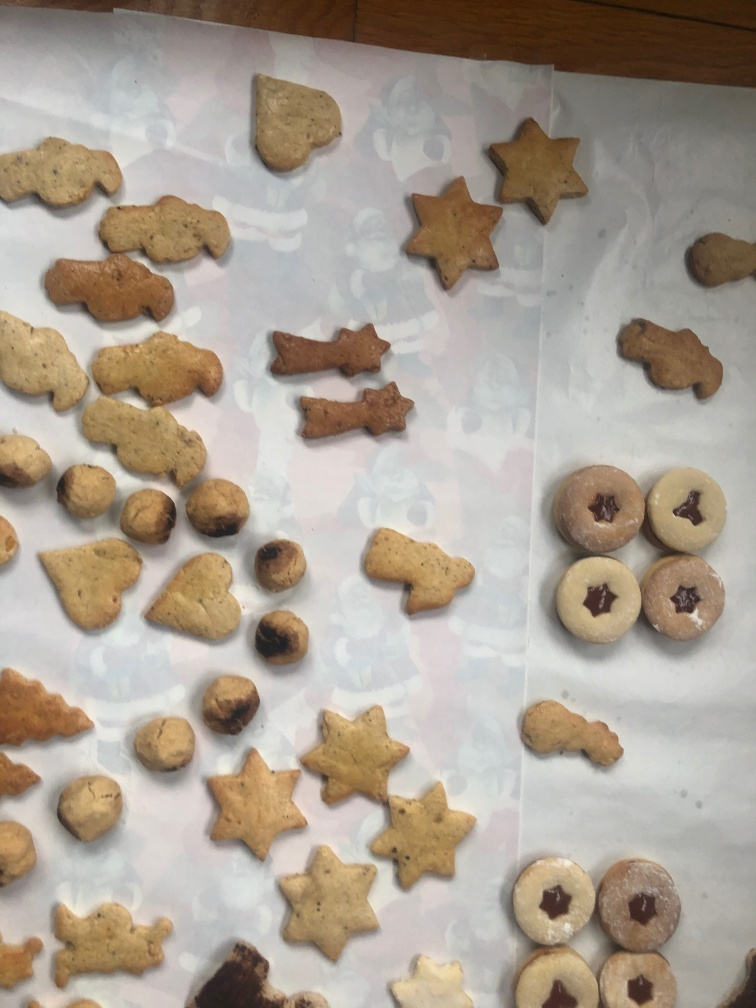angel: (360, 517, 481, 626)
christmas shortbread with jam: (499, 850, 594, 945), (643, 553, 730, 655), (597, 859, 688, 948), (558, 462, 644, 555), (554, 558, 640, 642), (649, 465, 732, 550), (513, 944, 604, 1004), (596, 946, 681, 1008)
christmas tree: (1, 661, 99, 759)
heart: (240, 67, 350, 179), (32, 524, 143, 634), (145, 551, 243, 651)
santa claus: (76, 393, 213, 489), (88, 325, 230, 416), (45, 897, 180, 984), (96, 190, 236, 273), (40, 252, 177, 336), (613, 311, 722, 411), (5, 133, 133, 216), (3, 307, 89, 417)
shooting star: (290, 384, 414, 457), (259, 316, 392, 384)
snowball: (516, 690, 628, 786), (54, 768, 126, 844), (186, 472, 252, 540), (130, 711, 199, 774), (2, 428, 53, 510), (253, 605, 313, 674), (194, 673, 260, 732), (121, 482, 176, 549), (57, 462, 118, 522), (252, 537, 311, 595)
star: (196, 740, 309, 866), (482, 106, 592, 235), (273, 838, 383, 960), (399, 173, 505, 296), (299, 700, 411, 806), (370, 779, 481, 883), (387, 945, 485, 1008)
